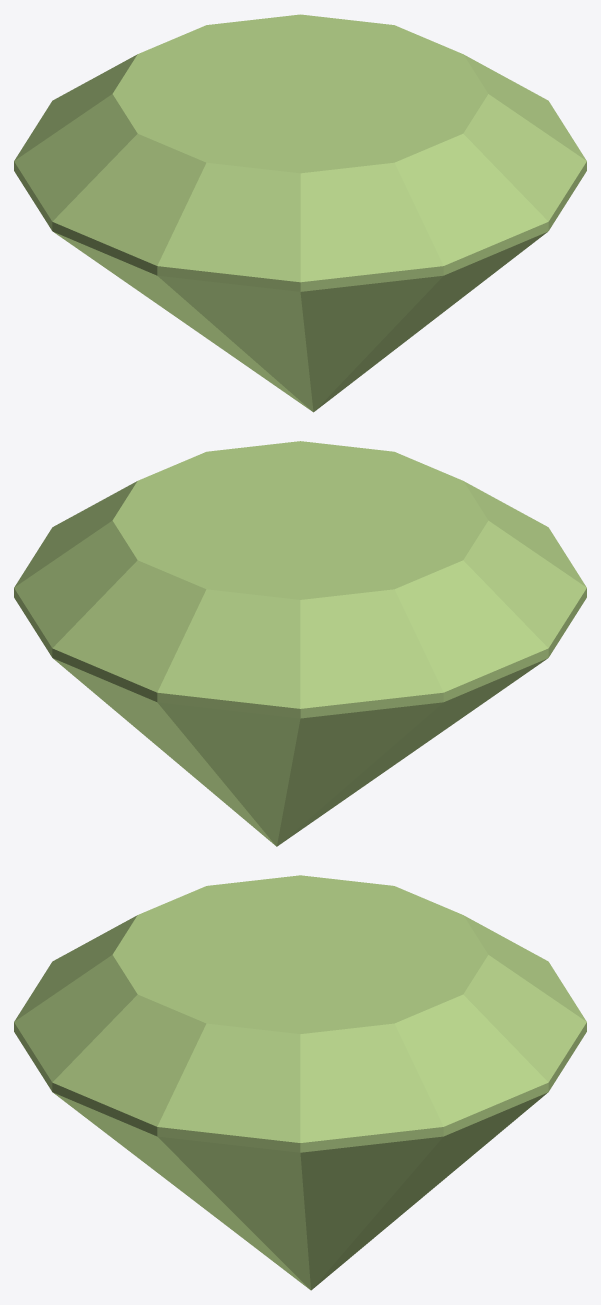
The model's file is Gem.fbx.
3 renders of one model, top to bottom at view 1: azimuth 30°, elevation 25°; view 2: azimuth 150°, elevation 25°; view 3: azimuth 270°, elevation 25°, orthographic.
Parts seen in each view (by area): view 1: mesh_655375255; view 2: mesh_655375255; view 3: mesh_655375255.
Part boxes in pixels (left/top/right/bottom): mesh_655375255: left=14, top=14, right=586, bottom=412; mesh_655375255: left=14, top=441, right=586, bottom=846; mesh_655375255: left=14, top=875, right=586, bottom=1290.
Bounding box in the file's own units: 54 × 34 × 54.
